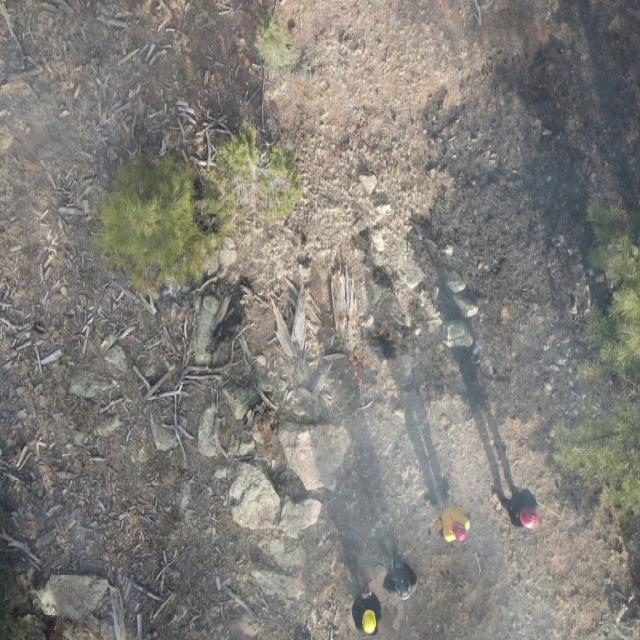fire: (348, 347, 366, 391), (373, 328, 398, 352), (338, 308, 346, 328)
smoke: (314, 332, 565, 640), (0, 0, 147, 265)
